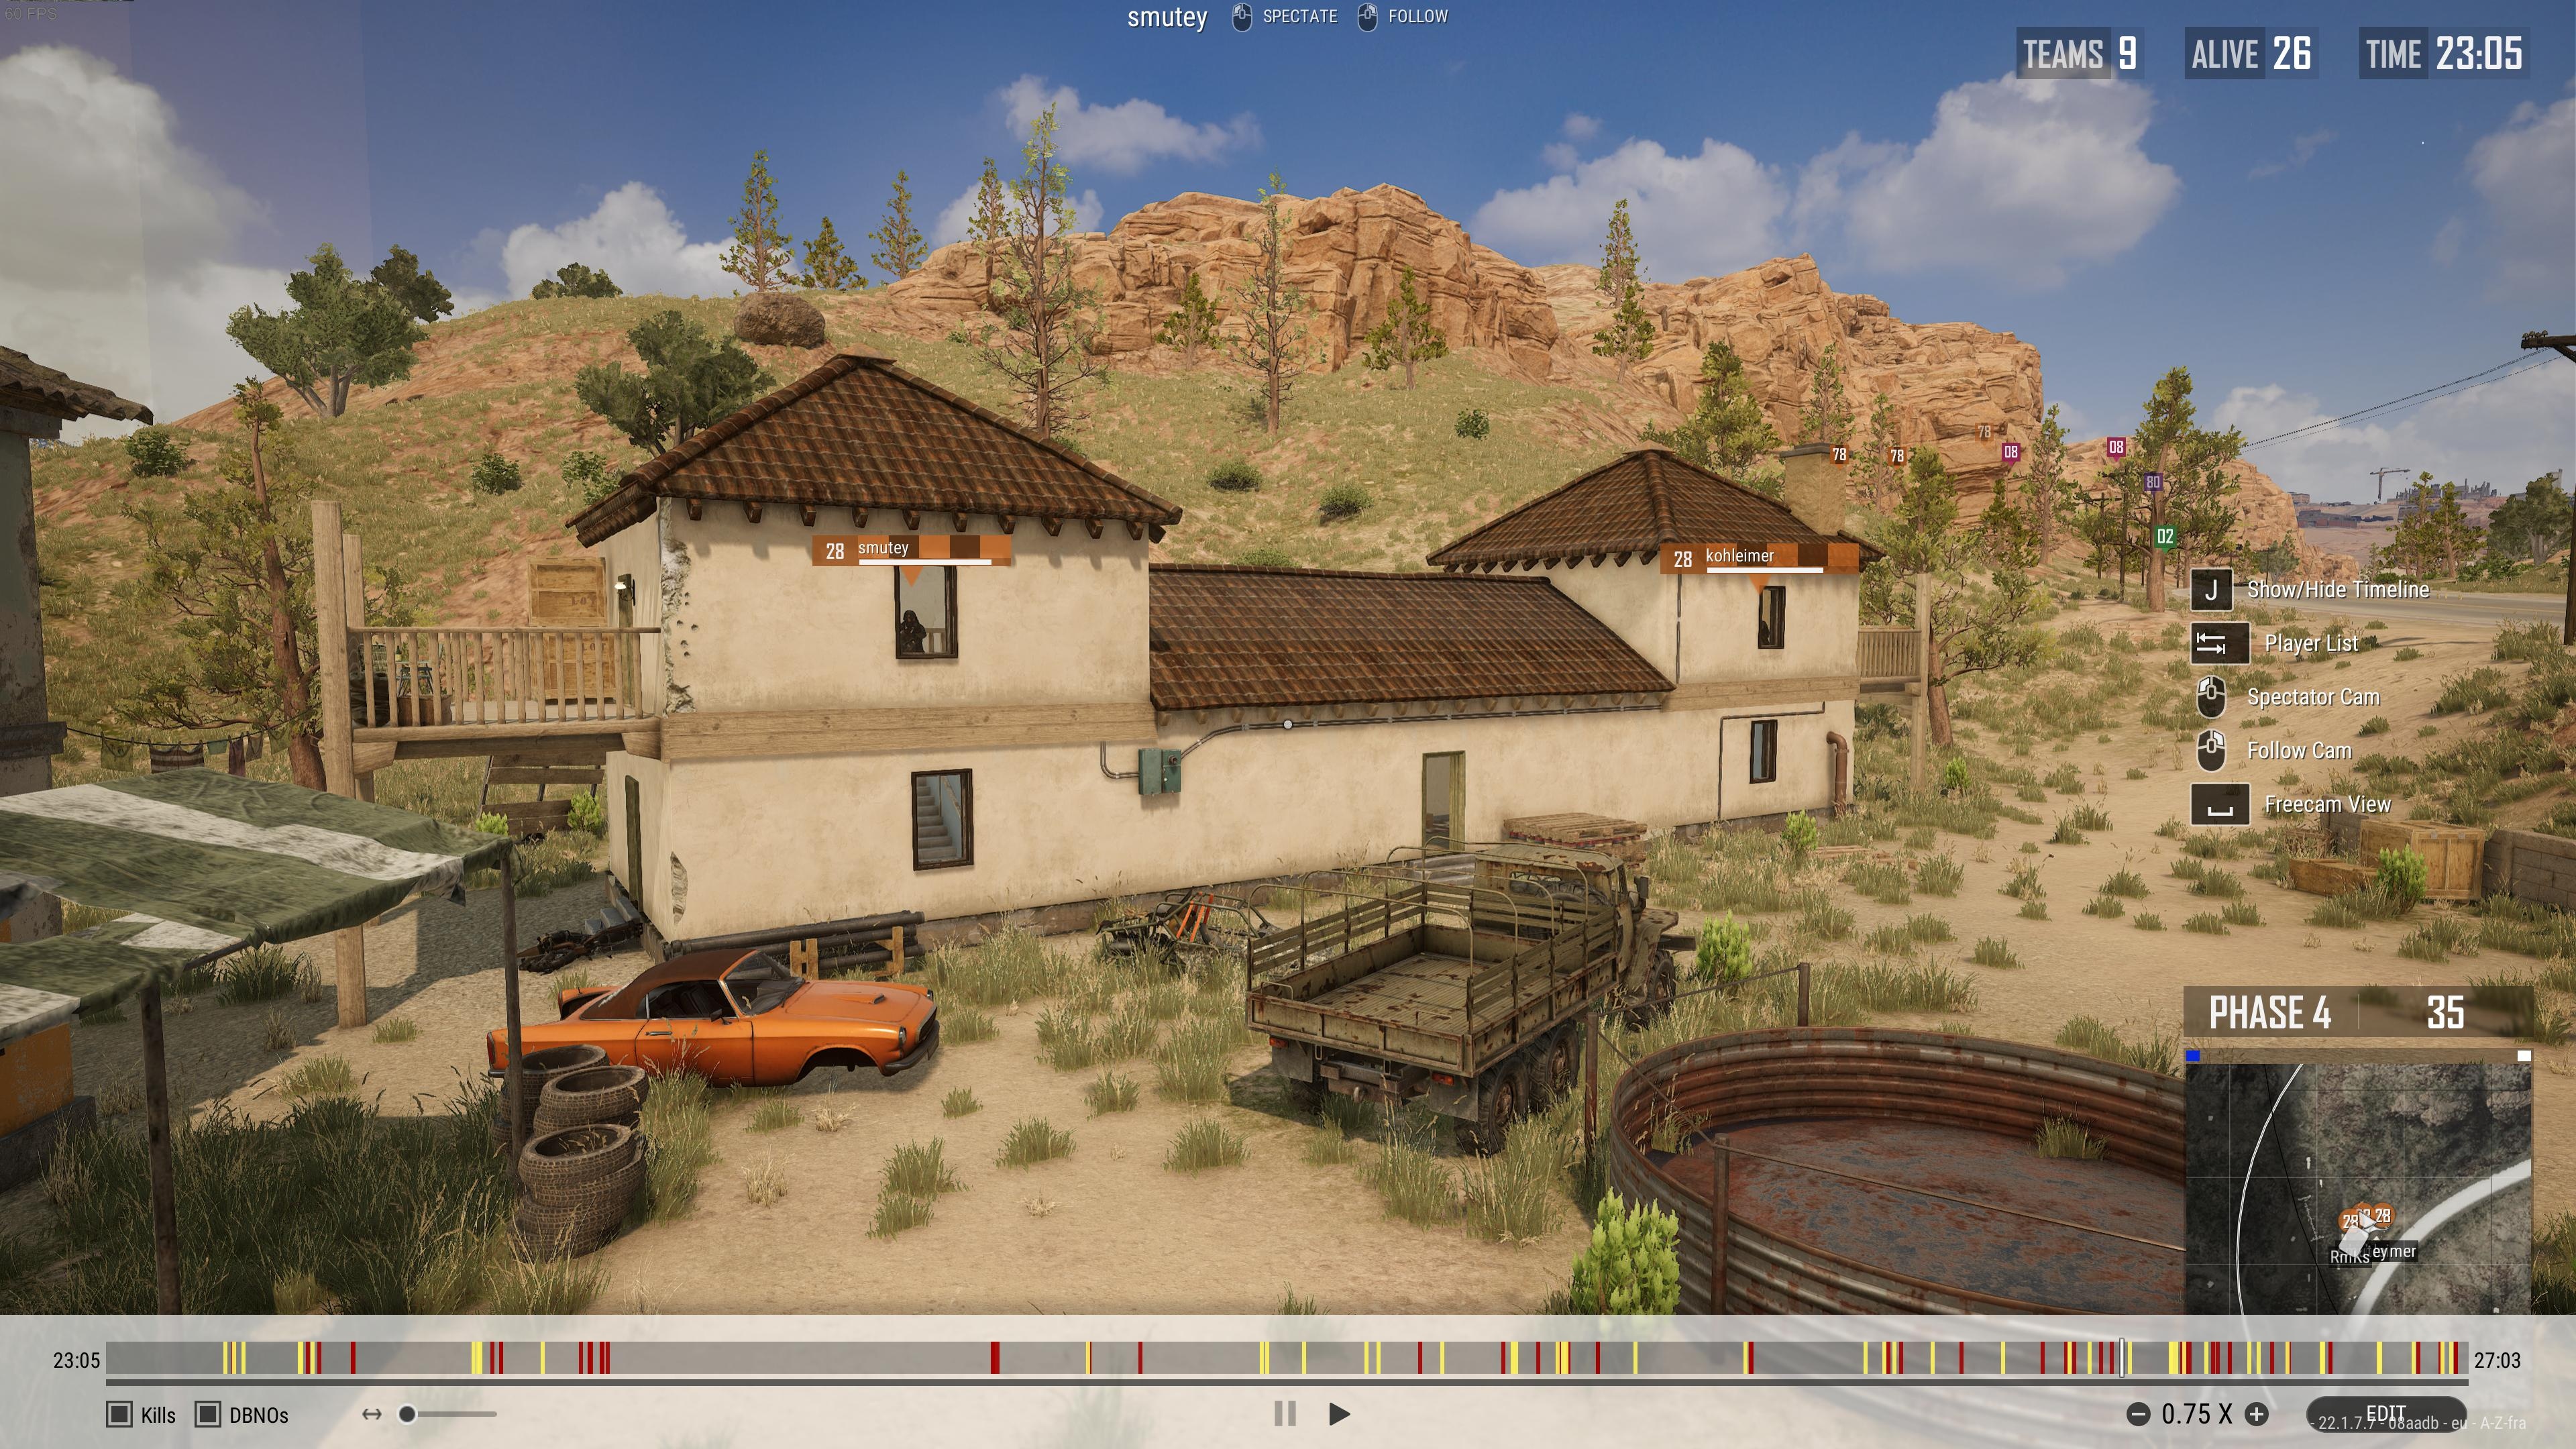enemy: (899, 609, 925, 651), (1762, 619, 1767, 644)
enemy_head: (902, 609, 916, 626)
